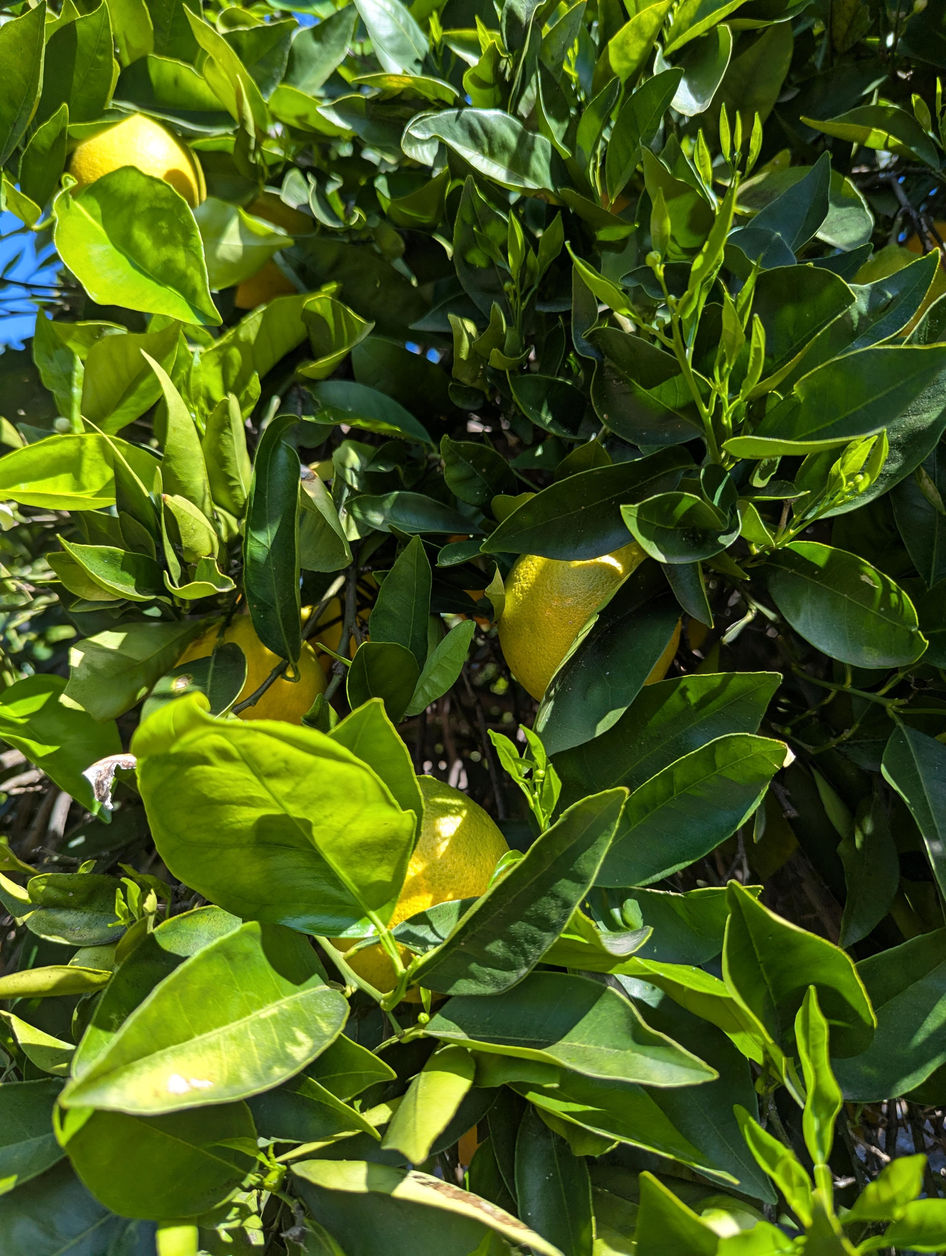orange: (329, 775, 509, 1002), (499, 541, 680, 699), (174, 615, 326, 725), (70, 114, 207, 209)
